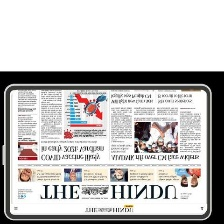news_paper: (11, 84, 210, 214)
